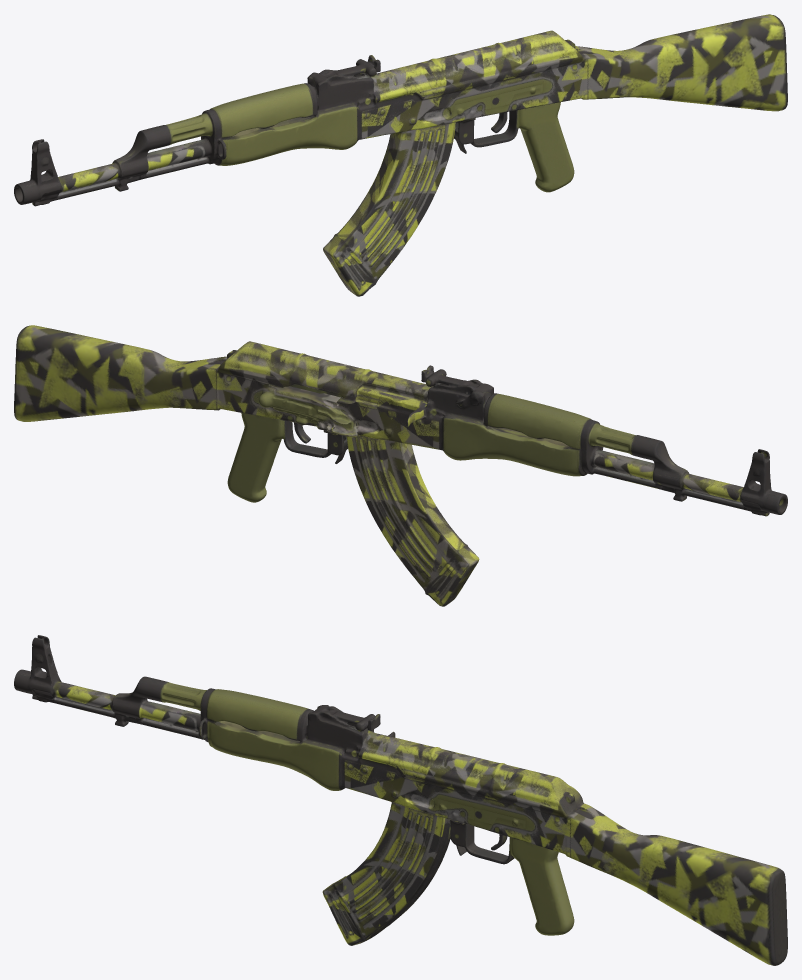
Rendered from Meshy_AI_ak47_1014151728_texture.glb.
3 renders of one model, top to bottom at view 1: azimuth 30°, elevation 25°; view 2: azimuth 150°, elevation 25°; view 3: azimuth 330°, elevation 25°, orthographic.
Size of the model in its own units: 1.9 by 0.5485 by 0.1617.
Materials: 1 (1 with a texture image).
